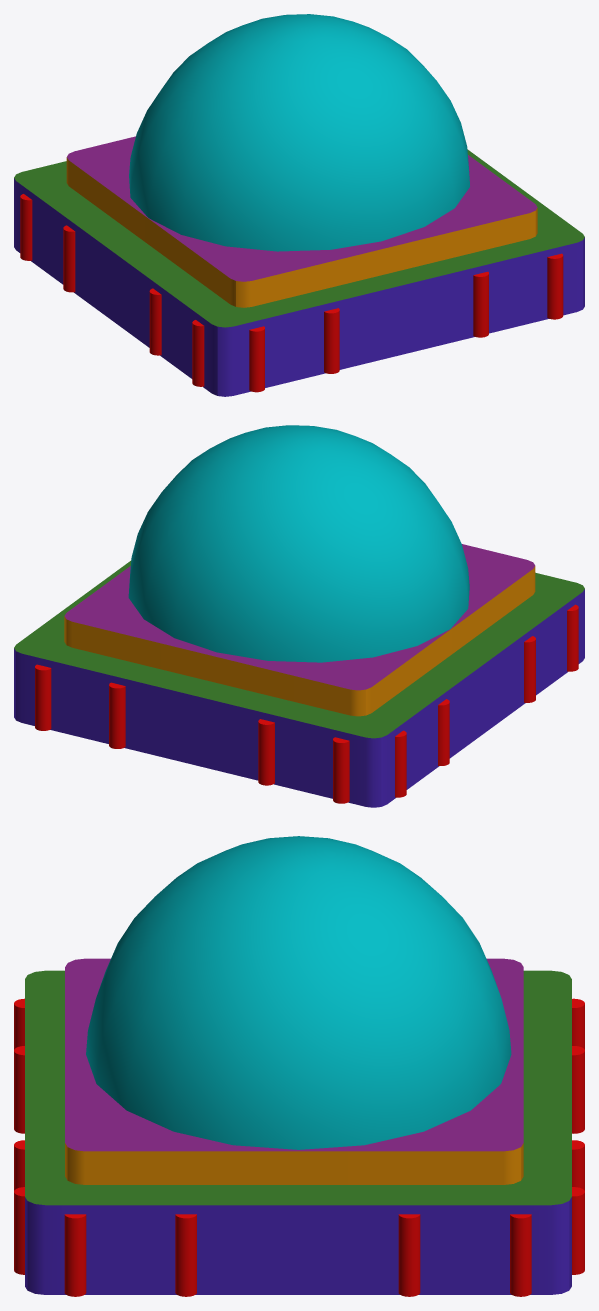
Rendered from Colony_Dome2.fbx.
3 renders of one model, top to bottom at view 1: azimuth 30°, elevation 25°; view 2: azimuth 150°, elevation 25°; view 3: azimuth 270°, elevation 25°, orthographic. The views are drawn at different scales.
Visible parts, largest first — view 1: pSphere2; view 2: pSphere2; view 3: pSphere2.
Boxes of the visible parts, x1=… form: pSphere2: x1=14, y1=14, x2=584, y2=396; pSphere2: x1=14, y1=425, x2=584, y2=807; pSphere2: x1=14, y1=836, x2=584, y2=1296.
Bounding box in the file's own units: 558 × 344 × 555.
